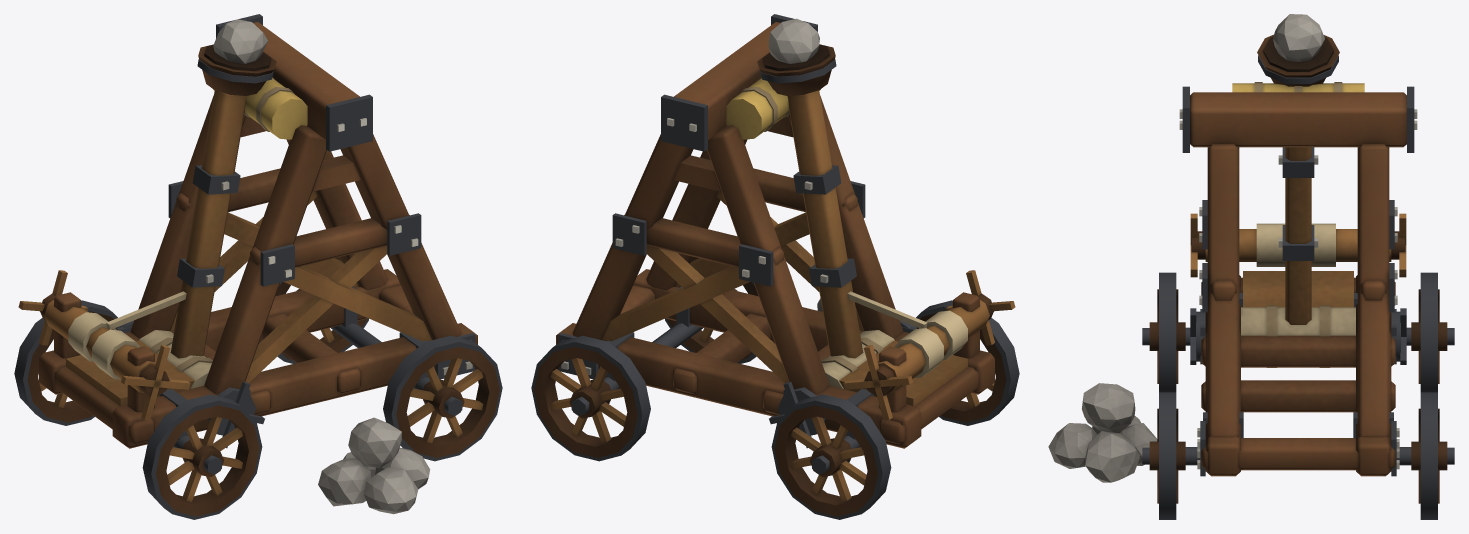
The model's file is catapult.glb.
3 views of the same model, side by side, from view 1: azimuth 30°, elevation 25°; view 2: azimuth 150°, elevation 25°; view 3: azimuth 270°, elevation 25° (orthographic).
Visible parts, largest first — view 1: rail; view 2: rail; view 3: rail.
Boxes of the visible parts, <box> form: rail: <box>14,14,502,519</box>; rail: <box>531,14,1019,519</box>; rail: <box>1048,14,1454,519</box>.
Bounding box in the file's own units: 0.4842 × 0.5365 × 0.46.
Materials: 2 (1 with a texture image).
